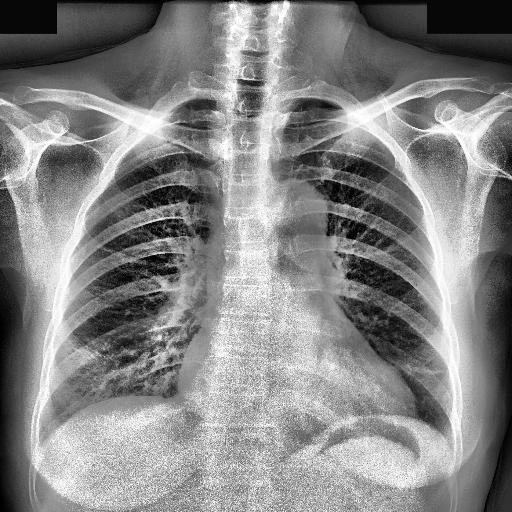0- Aortic enlargement: (258, 176, 328, 260), (268, 176, 326, 260), (266, 178, 330, 251)
13- Pulmonary fibrosis: (400, 360, 444, 376)
3- Cardiomegaly: (172, 332, 414, 416), (172, 368, 420, 438), (178, 356, 417, 422)
